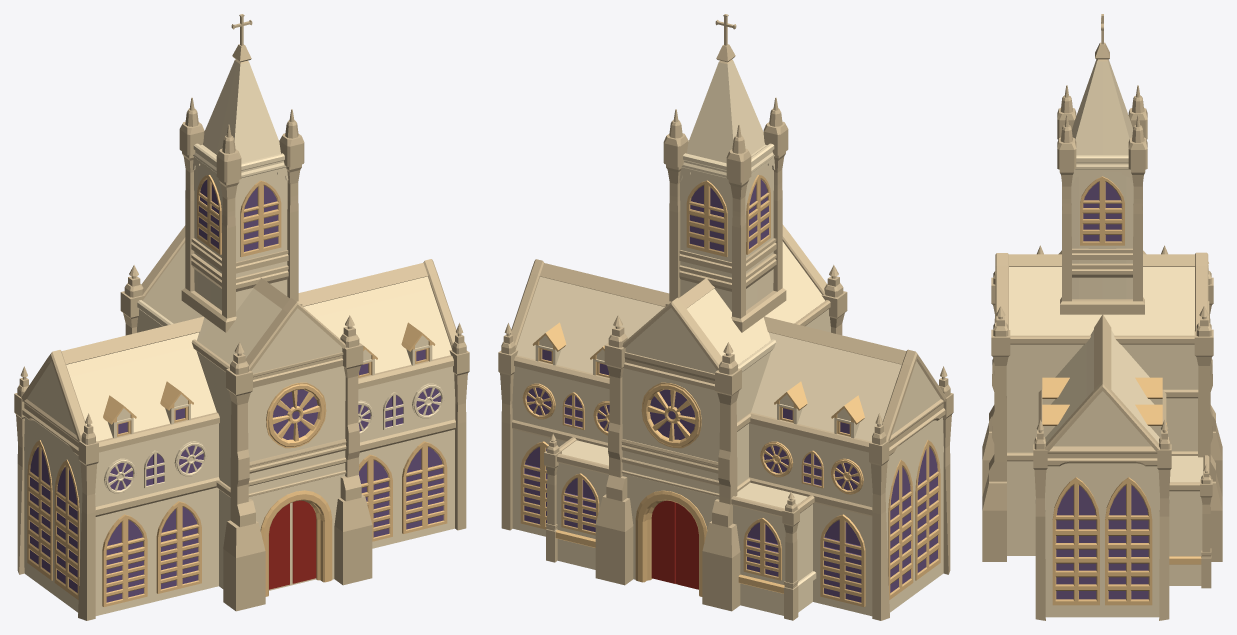
Rendered from Church1.fbx.
3 views of the same model, side by side, from view 1: azimuth 30°, elevation 25°; view 2: azimuth 150°, elevation 25°; view 3: azimuth 270°, elevation 25° (orthographic). The views are drawn at different scales.
Visible parts, largest first — view 1: Church1; view 2: Church1; view 3: Church1.
Boxes of the visible parts, <box> form: Church1: <box>14,14,469,620</box>; Church1: <box>498,14,953,620</box>; Church1: <box>982,14,1222,620</box>.
Bounding box in the file's own units: 692 × 914 × 386.
